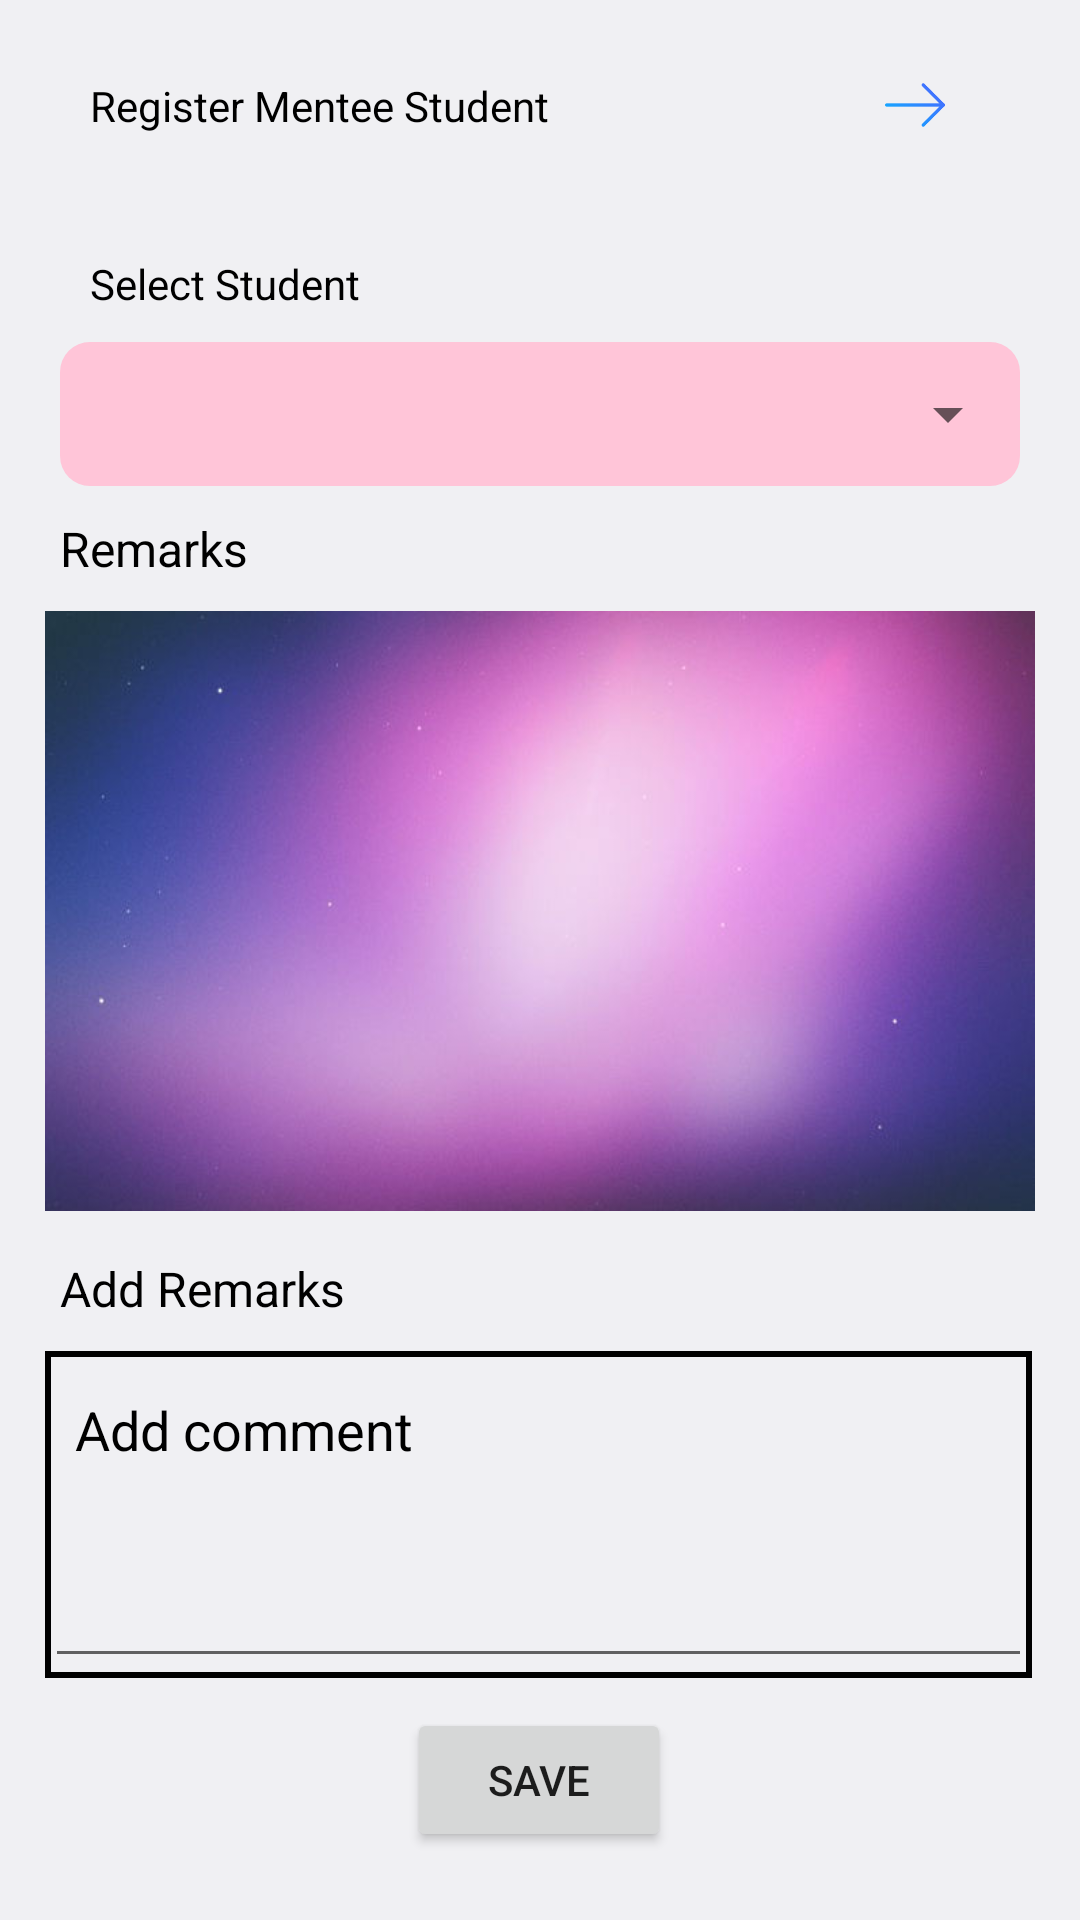

Point at icon controls on the screen. Image size 1080px×1920px, points as point (x, y).
go next: point (915, 105)
